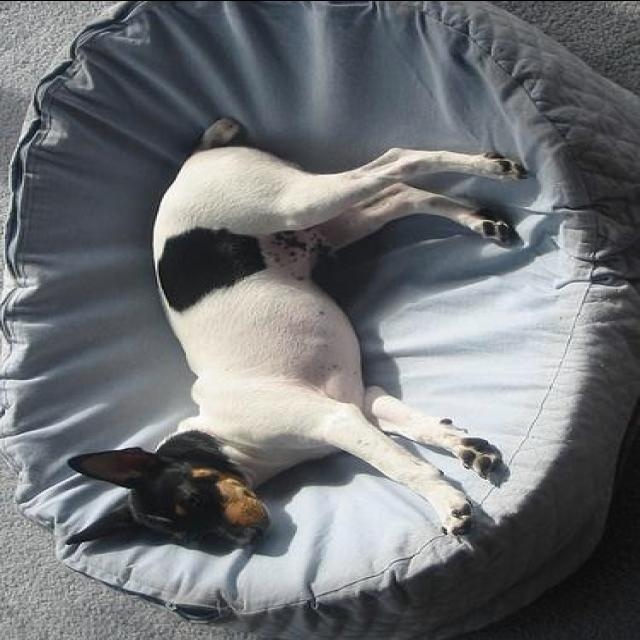toy_terrier: (67, 115, 529, 548)
